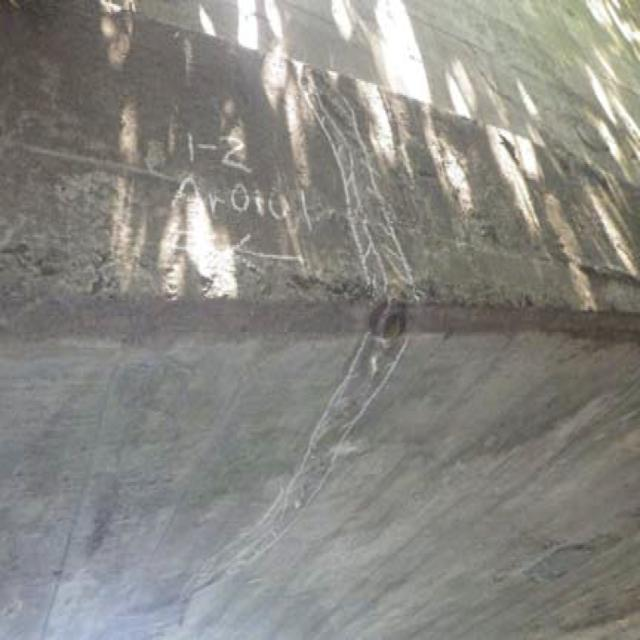leakage: (296, 73, 421, 554)
